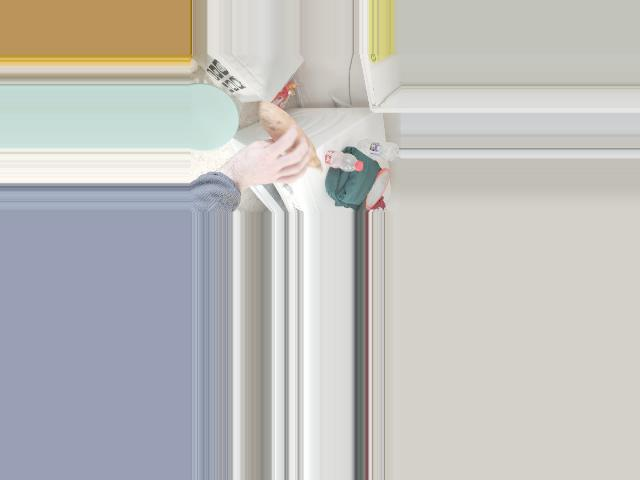sweet_potato: (260, 105, 320, 176)
